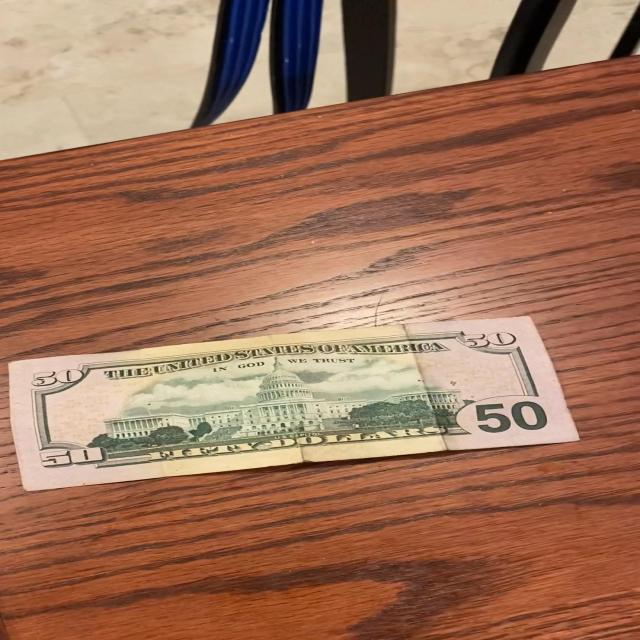50-Back: (0, 315, 592, 503)
